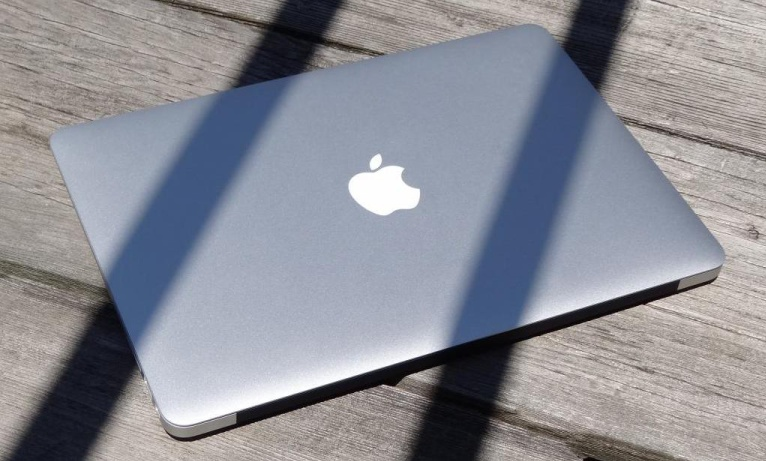apple: (349, 146, 430, 243)
